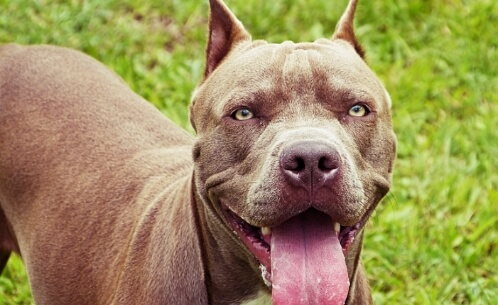Perro Pitbull: (151, 3, 395, 305)
